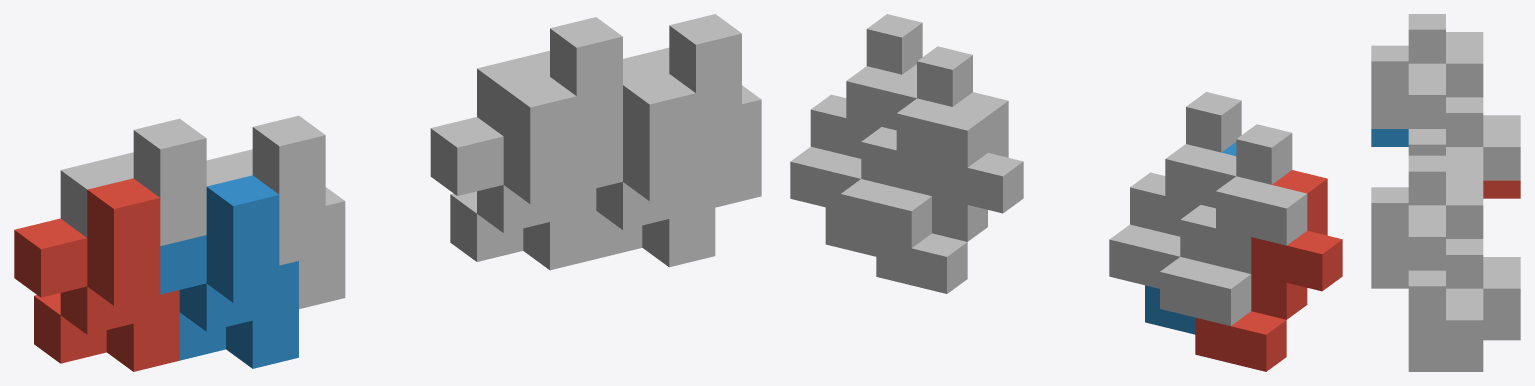
The model's file is tiling.obj.
The picture shows the model from 3 angles, left to right: view 1: azimuth 30°, elevation 25°; view 2: azimuth 150°, elevation 25°; view 3: azimuth 270°, elevation 25°; orthographic projection. The views are drawn at different scales.
Parts seen in each view (by area): view 1: copy_1_domain_5, copy_1_domain_1, copy_1_domain_2, copy_1_domain_6, copy_1_domain_4, copy_1_domain_8, copy_1_domain_3, copy_1_domain_7; view 2: copy_1_domain_3, copy_1_domain_7, copy_1_domain_8, copy_1_domain_4, copy_1_domain_1, copy_1_domain_5, copy_1_domain_6, copy_1_domain_2; view 3: copy_1_domain_8, copy_1_domain_7, copy_1_domain_3, copy_1_domain_4, copy_1_domain_6, copy_1_domain_1, copy_1_domain_5, copy_1_domain_2.
Boxes of the visible parts, <box> form: copy_1_domain_5: <box>430,77,596,270</box>; copy_1_domain_1: <box>14,178,179,371</box>; copy_1_domain_2: <box>160,175,298,368</box>; copy_1_domain_6: <box>576,74,715,267</box>; copy_1_domain_4: <box>206,115,345,308</box>; copy_1_domain_8: <box>623,14,761,207</box>; copy_1_domain_3: <box>60,118,206,245</box>; copy_1_domain_7: <box>477,17,622,144</box>; copy_1_domain_3: <box>1160,124,1307,325</box>; copy_1_domain_7: <box>840,46,987,248</box>; copy_1_domain_8: <box>790,14,922,210</box>; copy_1_domain_4: <box>1109,92,1241,288</box>; copy_1_domain_1: <box>1195,170,1342,371</box>; copy_1_domain_5: <box>876,92,1023,293</box>; copy_1_domain_6: <box>825,64,916,256</box>; copy_1_domain_2: <box>1145,142,1236,334</box>; copy_1_domain_8: <box>1371,187,1483,353</box>; copy_1_domain_7: <box>1408,155,1520,322</box>; copy_1_domain_3: <box>1408,14,1520,180</box>; copy_1_domain_4: <box>1371,45,1483,173</box>; copy_1_domain_6: <box>1371,270,1483,371</box>; copy_1_domain_1: <box>1483,180,1520,198</box>; copy_1_domain_5: <box>1483,322,1520,340</box>; copy_1_domain_2: <box>1371,129,1408,146</box>.
Bounding box in the file's own units: 15 × 5 × 4.
